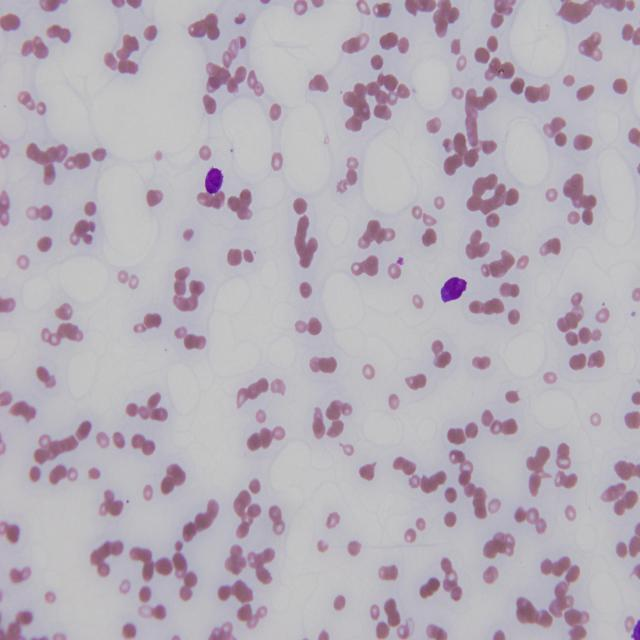cell: (441, 277, 466, 303), (205, 167, 224, 194)
